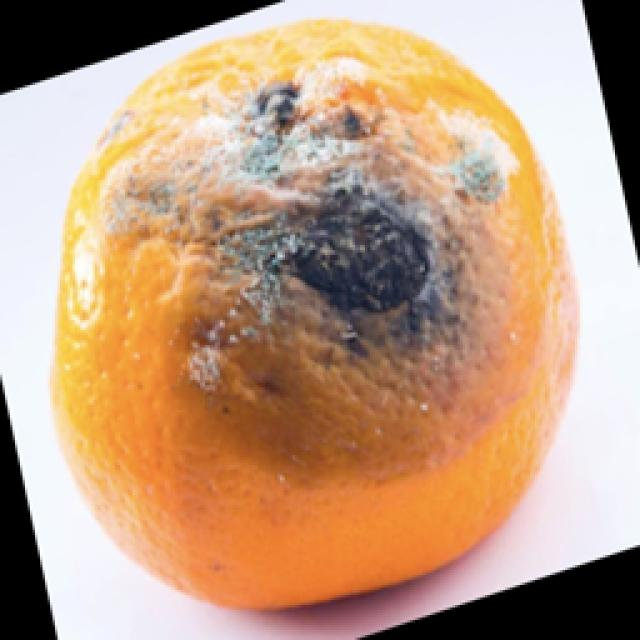Rotten_Orange: (0, 32, 626, 538)
